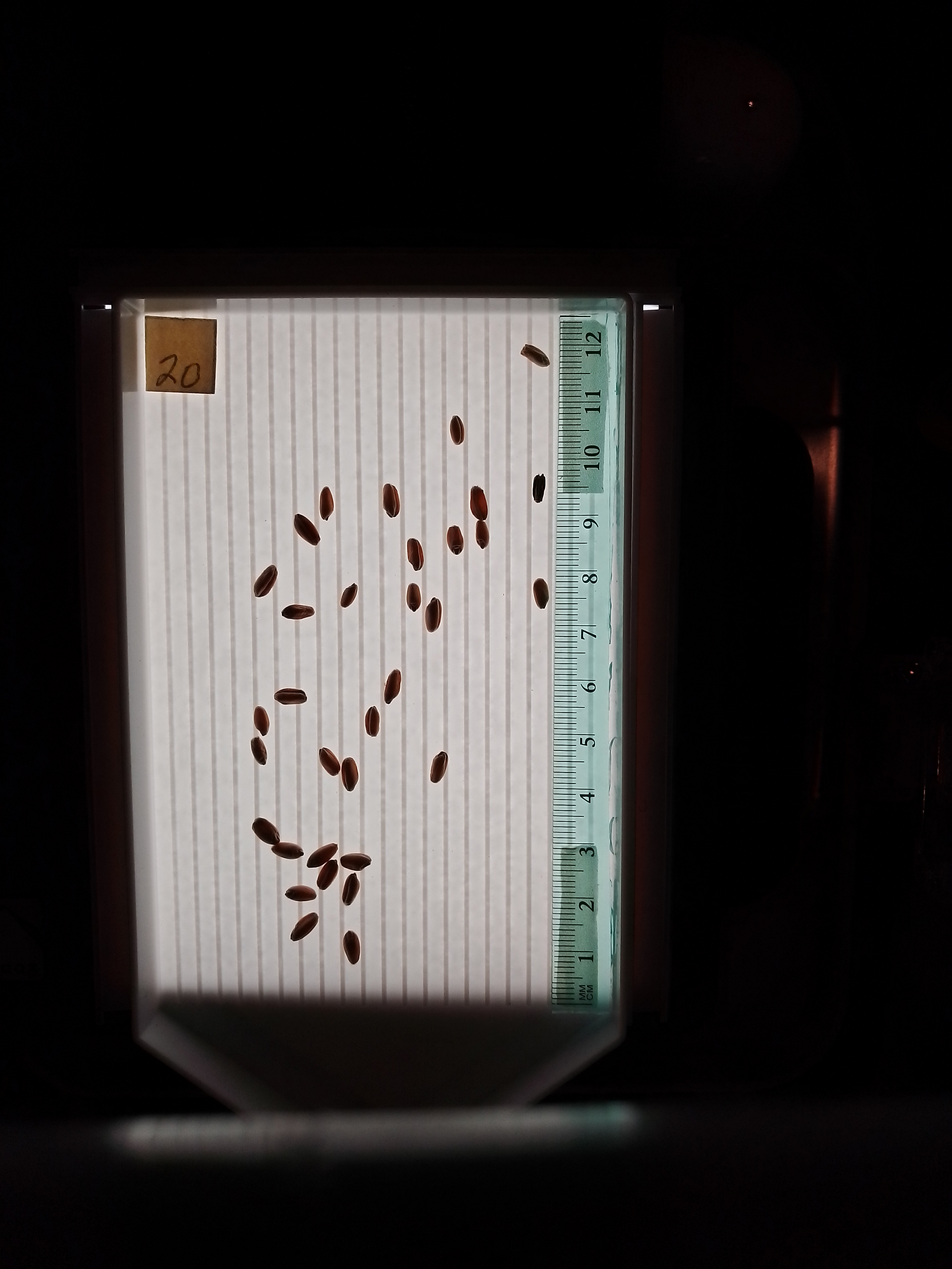seed mask: (294, 515, 319, 546), (291, 913, 318, 941), (253, 818, 280, 845), (254, 566, 277, 597), (307, 844, 336, 867), (341, 757, 359, 791), (521, 346, 550, 367), (317, 861, 338, 890), (470, 487, 488, 520), (319, 748, 340, 776), (425, 598, 442, 632), (430, 752, 448, 784), (286, 884, 316, 903), (383, 484, 400, 517), (275, 687, 306, 705), (343, 932, 360, 964), (407, 538, 424, 570), (341, 853, 371, 871), (282, 604, 314, 620), (385, 671, 401, 703), (343, 874, 359, 905), (273, 842, 302, 859), (533, 579, 549, 609), (447, 526, 464, 554), (320, 487, 334, 520), (365, 707, 380, 737), (449, 417, 465, 445), (254, 706, 269, 735), (251, 738, 267, 764), (407, 584, 421, 611), (341, 584, 357, 607), (533, 475, 546, 503), (476, 521, 489, 548)
